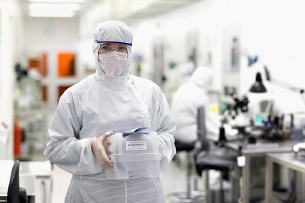Mask: (93, 41, 131, 79)
